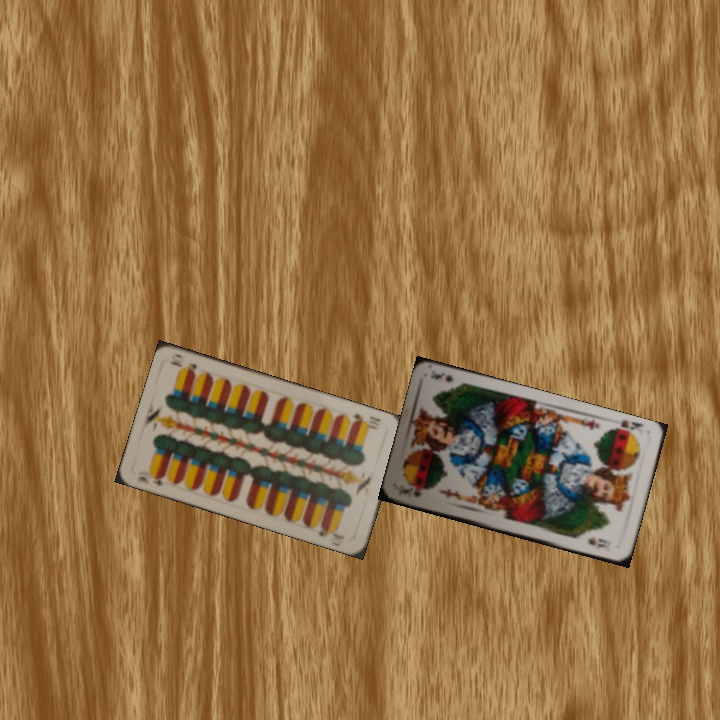E10: (348, 409, 383, 432), (132, 466, 167, 488)
SK: (608, 416, 647, 438), (399, 484, 425, 500)
